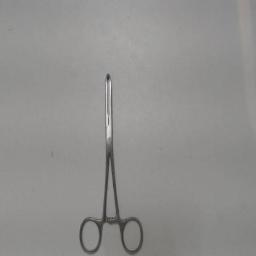Allis Tissue Forceps: (75, 67, 145, 255)
